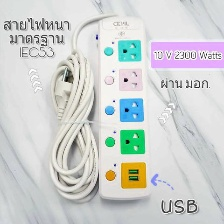three_eye_plug: (92, 12, 152, 203)
